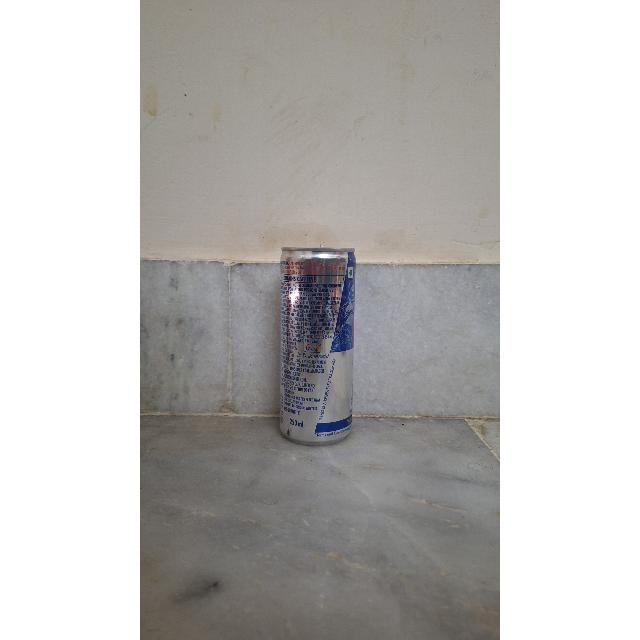Redbull DanceYourStyle: (272, 246, 368, 449)
